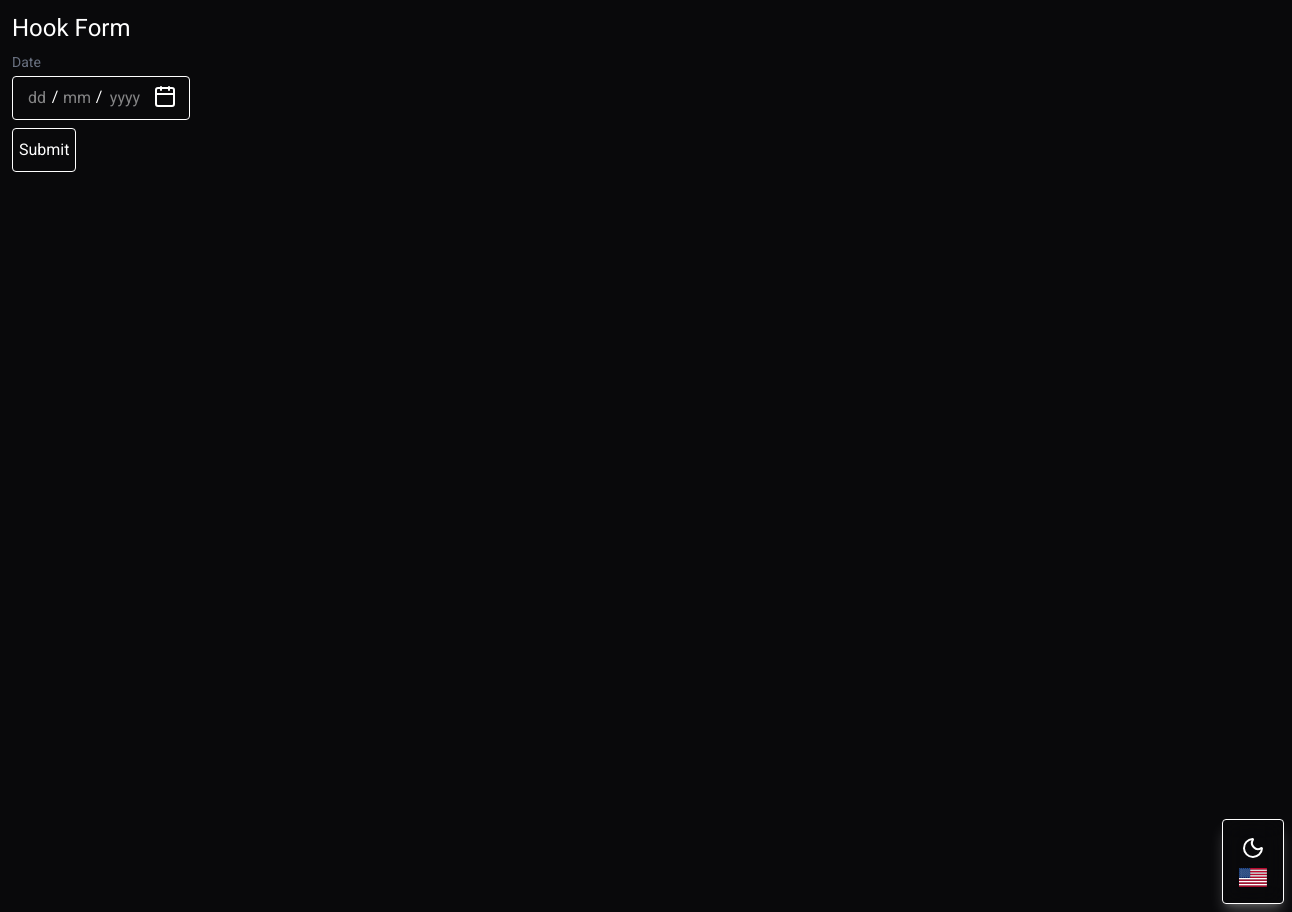
pages/DatePickerMega/components/HookForm › should render and show validation error on empty submit
Click the button "Submit": (44, 150) [12, 128, 76, 172]
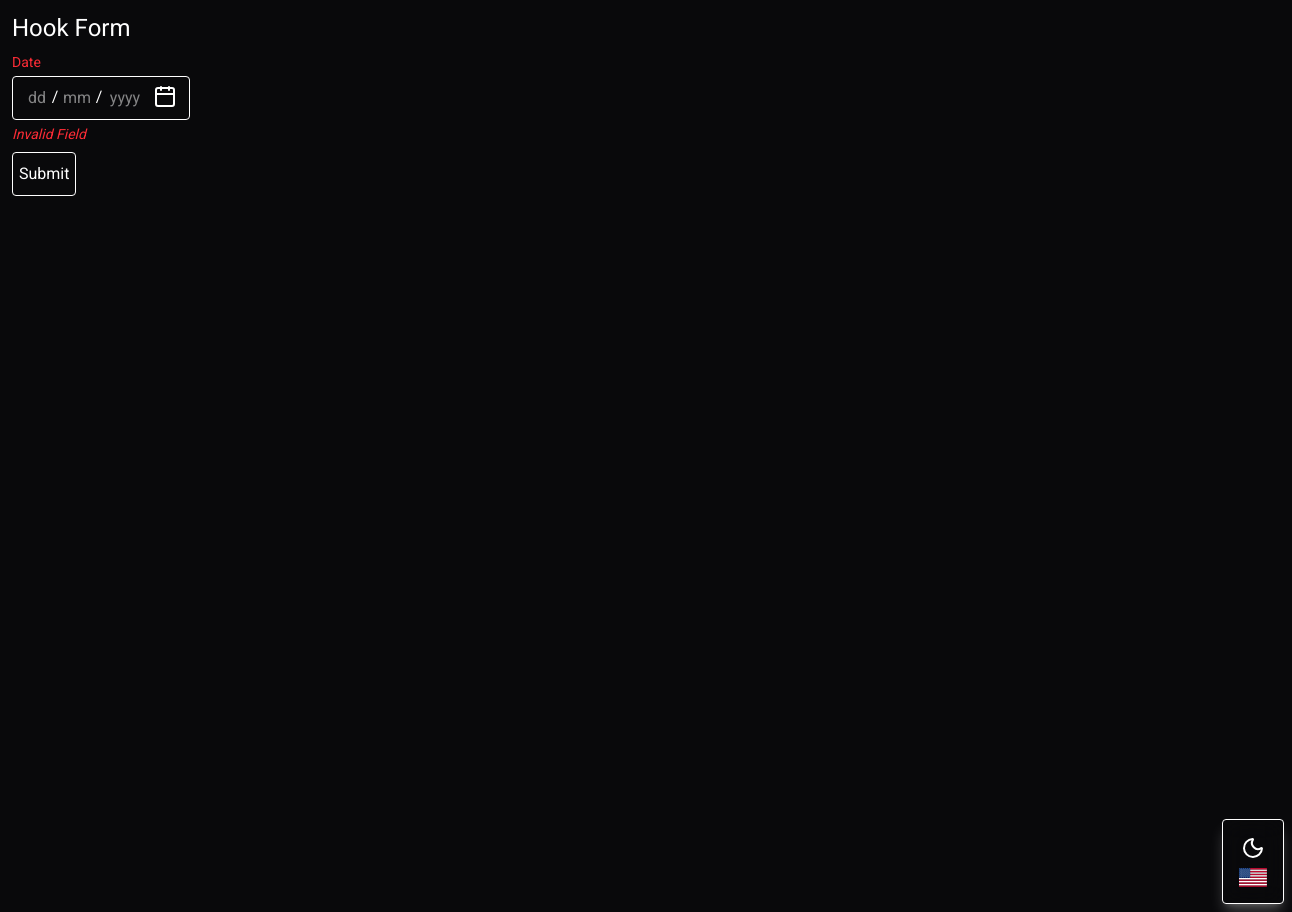
Check: the text "Invalid Field" is shown, box [12, 126, 86, 142]
